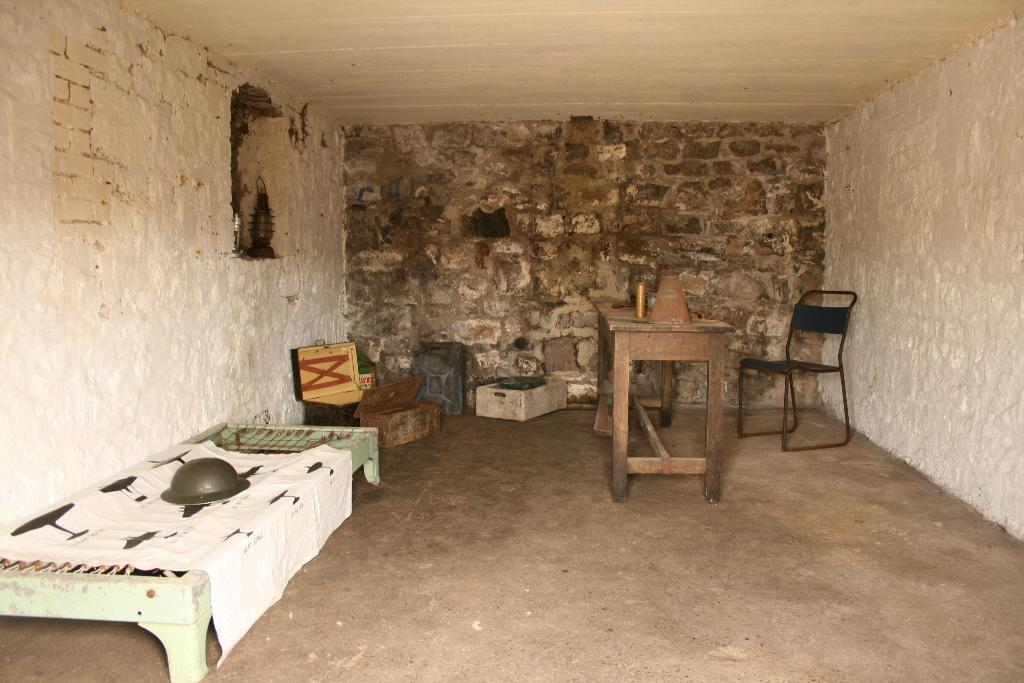Chair: (736, 300, 862, 464)
